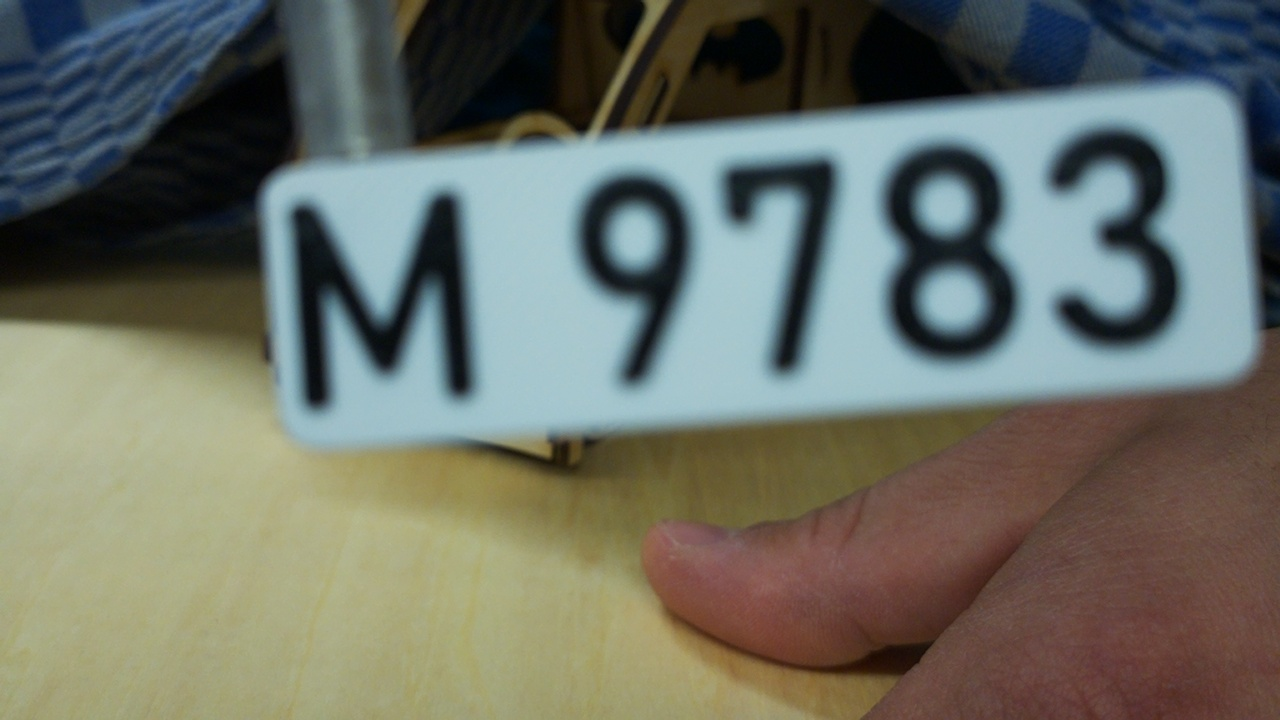license_plate: (255, 73, 1262, 457)
